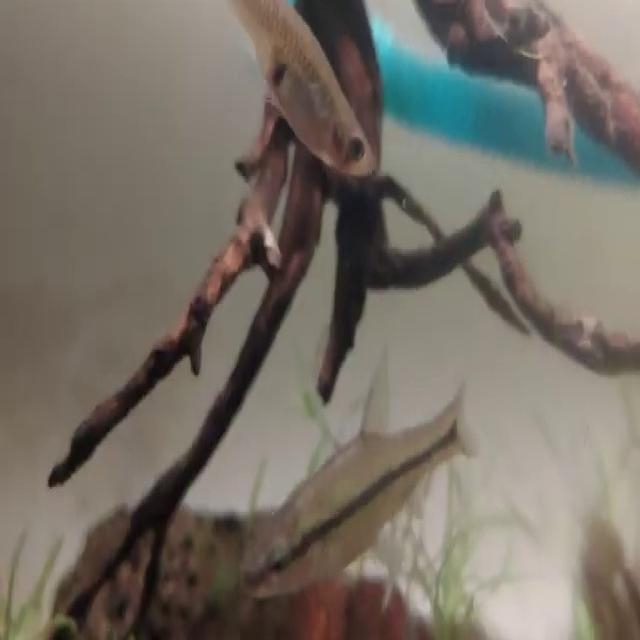Cakil Baligi: (233, 379, 468, 597), (216, 0, 370, 183)
